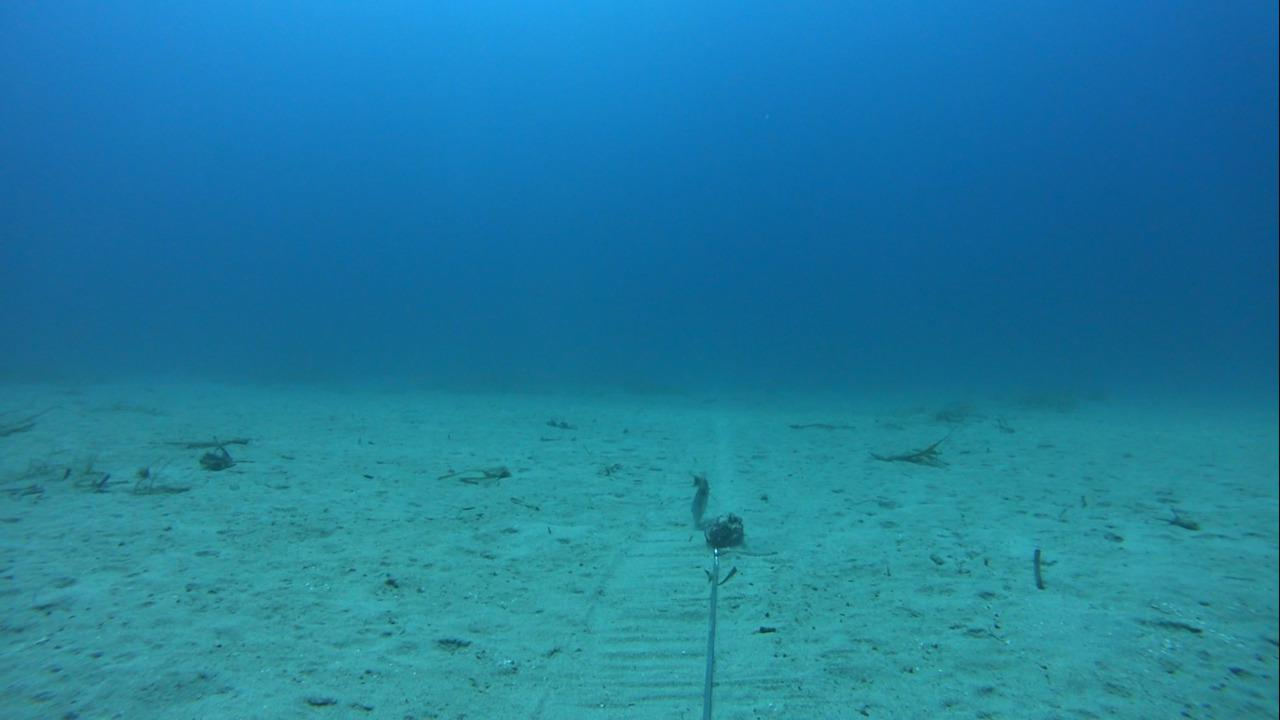raor: (678, 468, 712, 541)
